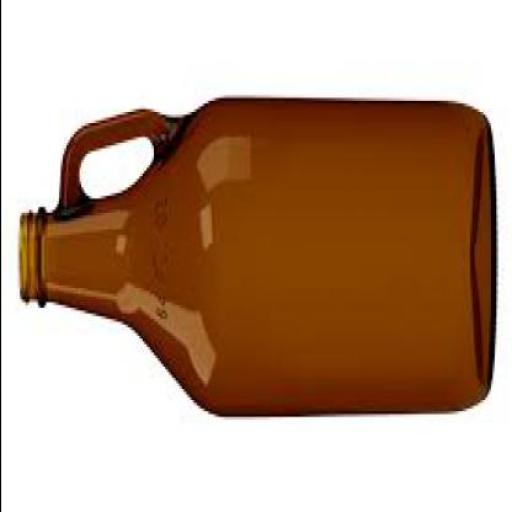glass: (16, 98, 496, 423)
